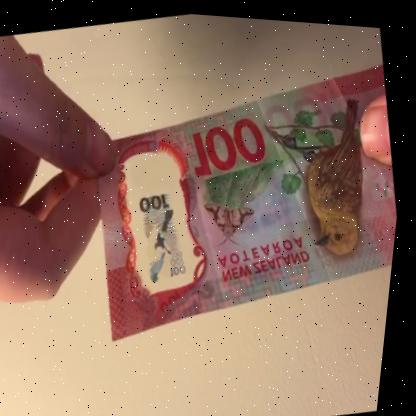100B: (129, 157, 207, 294)
